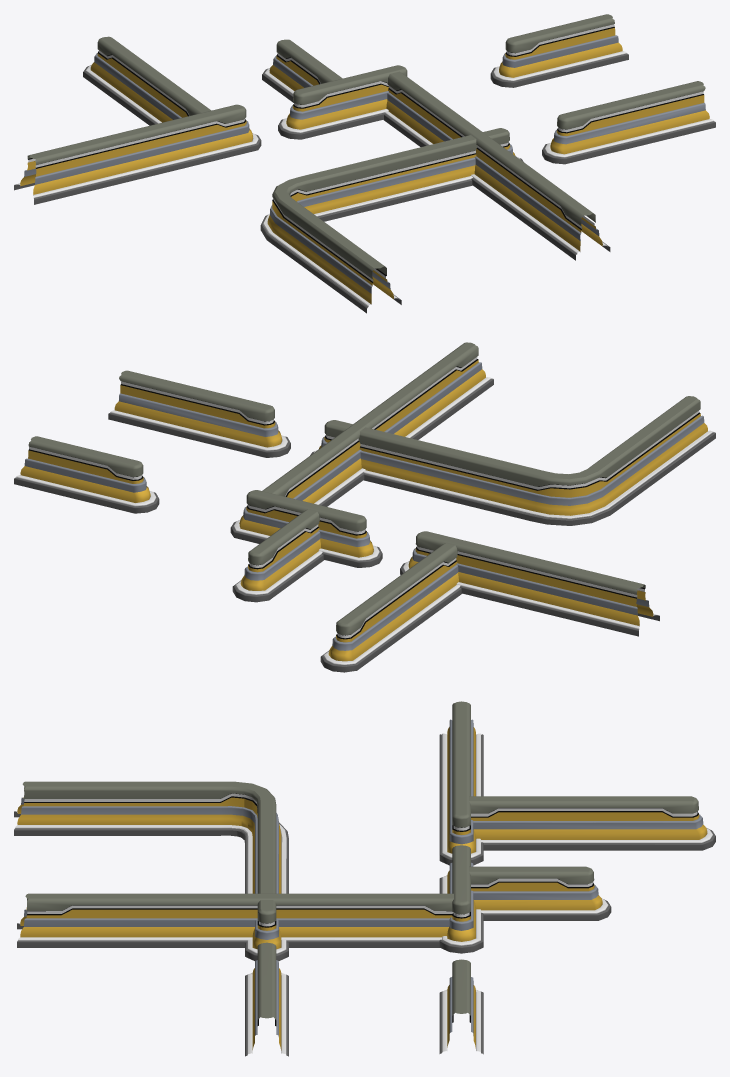
The model's file is Small walls.fbx.
3 renders of one model, top to bottom at view 1: azimuth 30°, elevation 25°; view 2: azimuth 150°, elevation 25°; view 3: azimuth 270°, elevation 25°, orthographic. The views are drawn at different scales.
Parts seen in each view (by area): view 1: Small_wall_L66, Small_wallv1_46, Small_wallv1_45, Small_wallv1_21, Small_wallv1_41, Small_wallv1_20, Small_wallv1_103, Small_wallv1_44; view 2: Small_wall_L66, Small_wallv1_46, Small_wallv1_45, Small_wallv1_21, Small_wallv1_103, Small_wallv1_41, Small_wallv1_20, Small_wallv1_44; view 3: Small_wallv1_45, Small_wall_L66, Small_wallv1_103, Small_wallv1_44, Small_wallv1_46, Small_wallv1_21, Small_wallv1_20, Small_wallv1_41.
Part boxes in pixels (x1=…): Small_wall_L66: x1=260, y1=128, x2=523, y2=313; Small_wallv1_46: x1=14, y1=104, x2=261, y2=204; Small_wallv1_45: x1=383, y1=71, x2=610, y2=260; Small_wallv1_21: x1=542, y1=81, x2=715, y2=164; Small_wallv1_41: x1=490, y1=14, x2=628, y2=87; Small_wallv1_20: x1=278, y1=65, x2=407, y2=139; Small_wallv1_103: x1=83, y1=36, x2=211, y2=125; Small_wallv1_44: x1=262, y1=39, x2=342, y2=102; Small_wall_L66: x1=310, y1=396, x2=715, y2=525; Small_wallv1_46: x1=400, y1=531, x2=659, y2=636; Small_wallv1_45: x1=262, y1=342, x2=493, y2=506; Small_wallv1_21: x1=108, y1=370, x2=290, y2=457; Small_wallv1_103: x1=320, y1=543, x2=461, y2=672; Small_wallv1_41: x1=14, y1=436, x2=159, y2=513; Small_wallv1_20: x1=230, y1=490, x2=382, y2=567; Small_wallv1_44: x1=232, y1=509, x2=323, y2=602; Small_wallv1_45: x1=17, y1=893, x2=453, y2=947; Small_wall_L66: x1=14, y1=781, x2=288, y2=960; Small_wallv1_103: x1=469, y1=796, x2=715, y2=850; Small_wallv1_44: x1=469, y1=866, x2=611, y2=920; Small_wallv1_46: x1=439, y1=701, x2=483, y2=865; Small_wallv1_21: x1=245, y1=942, x2=288, y2=1056; Small_wallv1_20: x1=439, y1=845, x2=483, y2=953; Small_wallv1_41: x1=439, y1=959, x2=483, y2=1054.
Bounding box in the file's own units: 592 × 39.69 × 549.
